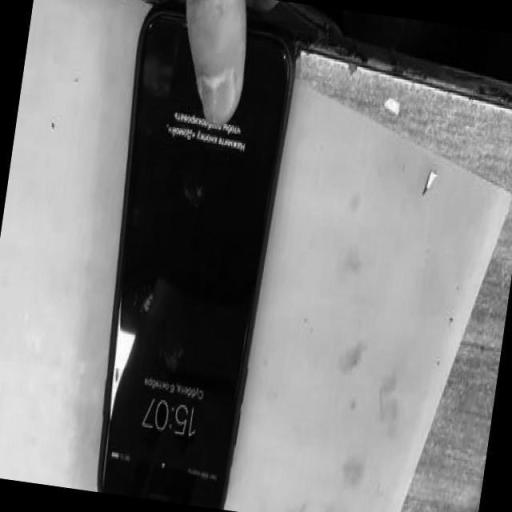phone: (98, 10, 293, 506)
